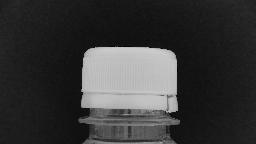Broken Ring: (148, 92, 184, 114)
Loose Cap: (72, 84, 184, 130)
